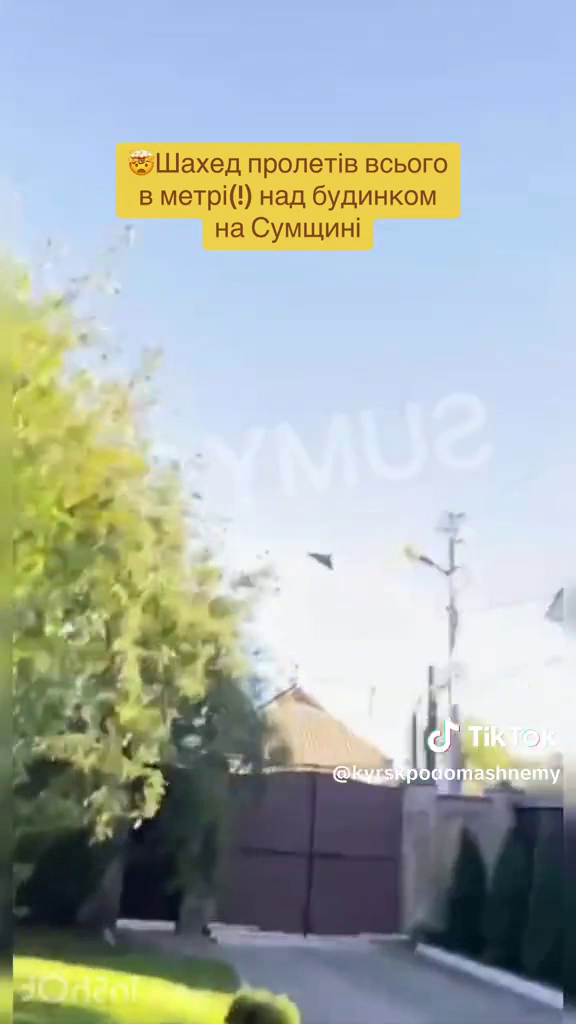shahed: (302, 543, 340, 577)
